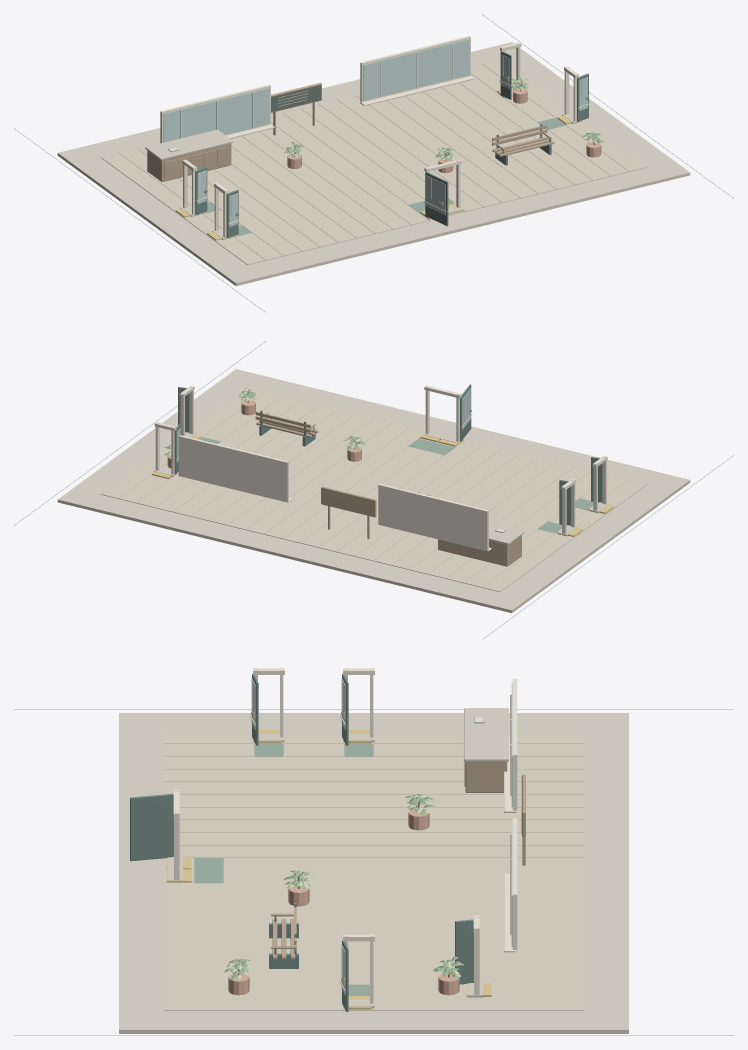
The model's file is room.glb.
3 views of the same model, one above another, from view 1: azimuth 30°, elevation 25°; view 2: azimuth 150°, elevation 25°; view 3: azimuth 270°, elevation 25° (orthographic). The views are drawn at different scales.
Visible parts, largest first — view 1: Campaign_paving, Campaign_stone, Campaign_glass, Campaign_cream, Campaign_wood, Campaign_metal, Campaign_ink, Campaign_terra, Campaign_leaf_leaf_light, Campaign_cloth; view 2: Campaign_paving, Campaign_stone, Campaign_cream, Campaign_wood, Campaign_metal, Campaign_cloth, Campaign_amber; view 3: Campaign_paving, Campaign_stone, Campaign_metal, Campaign_cream, Campaign_wood, Campaign_cloth, Campaign_terra, Campaign_leaf_leaf_light, Campaign_glass, Campaign_amber.
Boxes of the visible parts, x1,y1,x2,y2 form: Campaign_paving: [100, 59, 647, 264]; Campaign_stone: [57, 42, 690, 286]; Campaign_glass: [163, 39, 587, 227]; Campaign_cream: [160, 36, 589, 237]; Campaign_wood: [147, 80, 598, 181]; Campaign_metal: [14, 14, 733, 312]; Campaign_ink: [271, 85, 321, 112]; Campaign_terra: [287, 89, 601, 173]; Campaign_leaf_leaf_light: [283, 76, 604, 160]; Campaign_cloth: [168, 118, 565, 236]; Campaign_paving: [100, 386, 647, 591]; Campaign_stone: [57, 369, 690, 613]; Campaign_cream: [154, 385, 607, 551]; Campaign_wood: [244, 393, 521, 566]; Campaign_metal: [14, 341, 733, 639]; Campaign_cloth: [200, 437, 593, 533]; Campaign_amber: [152, 408, 614, 536]; Campaign_paving: [164, 731, 583, 1010]; Campaign_stone: [119, 708, 628, 1033]; Campaign_metal: [14, 674, 733, 1035]; Campaign_cream: [129, 668, 521, 1003]; Campaign_wood: [231, 761, 525, 977]; Campaign_cloth: [194, 717, 484, 996]; Campaign_terra: [228, 808, 459, 995]; Campaign_leaf_leaf_light: [224, 794, 463, 980]; Campaign_glass: [251, 679, 512, 995]; Campaign_amber: [166, 711, 491, 1009].
Size of what is drawn, in the model's own units: 20.62 by 2.43 by 19.2.
